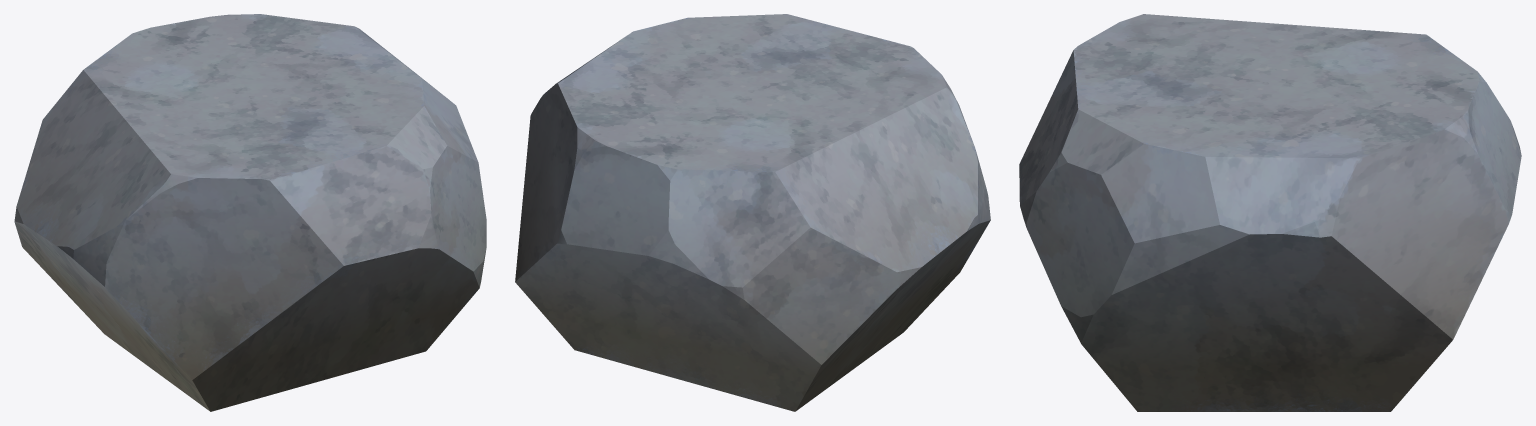
File: Rock_3.fbx
3 renders of one model, left to right at view 1: azimuth 30°, elevation 25°; view 2: azimuth 150°, elevation 25°; view 3: azimuth 270°, elevation 25°, orthographic. The views are drawn at different scales.
Parts seen in each view (by area): view 1: Rock_3_Low; view 2: Rock_3_Low; view 3: Rock_3_Low.
Boxes of the visible parts, bbox=[...] form: Rock_3_Low: bbox=[14, 14, 486, 411]; Rock_3_Low: bbox=[515, 14, 990, 411]; Rock_3_Low: bbox=[1019, 14, 1521, 411].
Bounding box in the file's own units: 1.88 × 1.17 × 1.89.
